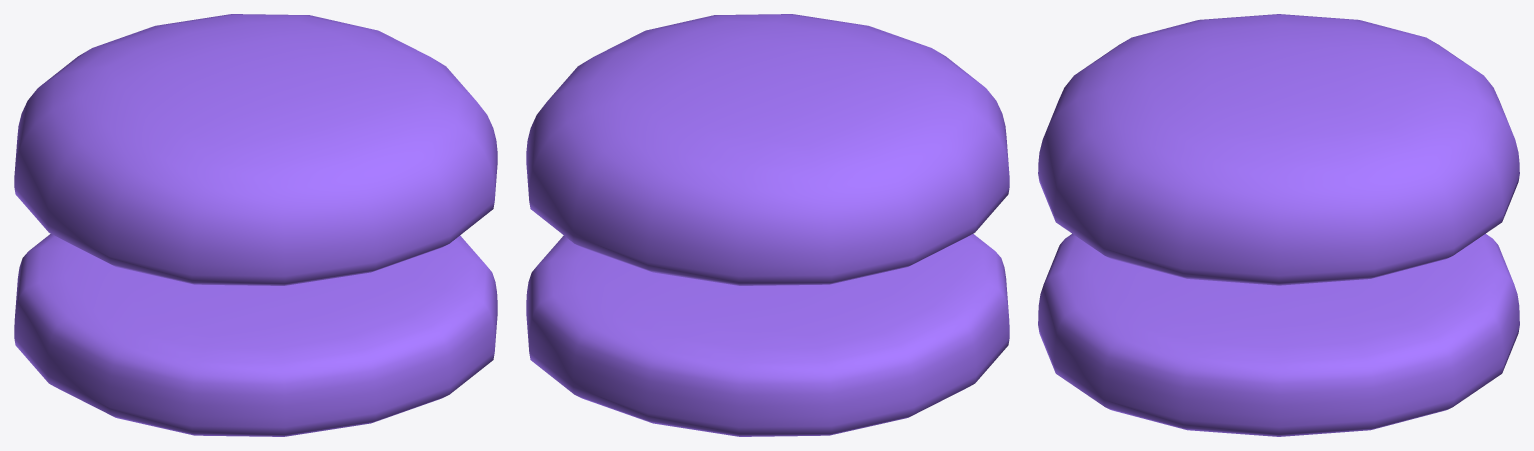
Rendered from whole-wheat.gltf.
The picture shows the model from 3 angles, left to right: view 1: azimuth 30°, elevation 25°; view 2: azimuth 150°, elevation 25°; view 3: azimuth 270°, elevation 25°; orthographic projection.
Parts seen in each view (by area): view 1: Cube.001, Cube.002; view 2: Cube.001, Cube.002; view 3: Cube.001, Cube.002.
Part boxes in pixels (bbox=[...]): Cube.001: bbox=[14, 14, 497, 285]; Cube.002: bbox=[14, 234, 497, 436]; Cube.001: bbox=[526, 14, 1009, 285]; Cube.002: bbox=[526, 234, 1009, 436]; Cube.001: bbox=[1038, 14, 1519, 285]; Cube.002: bbox=[1038, 233, 1519, 436].
Bounding box in the file's own units: 1.83 × 1.16 × 1.83.
